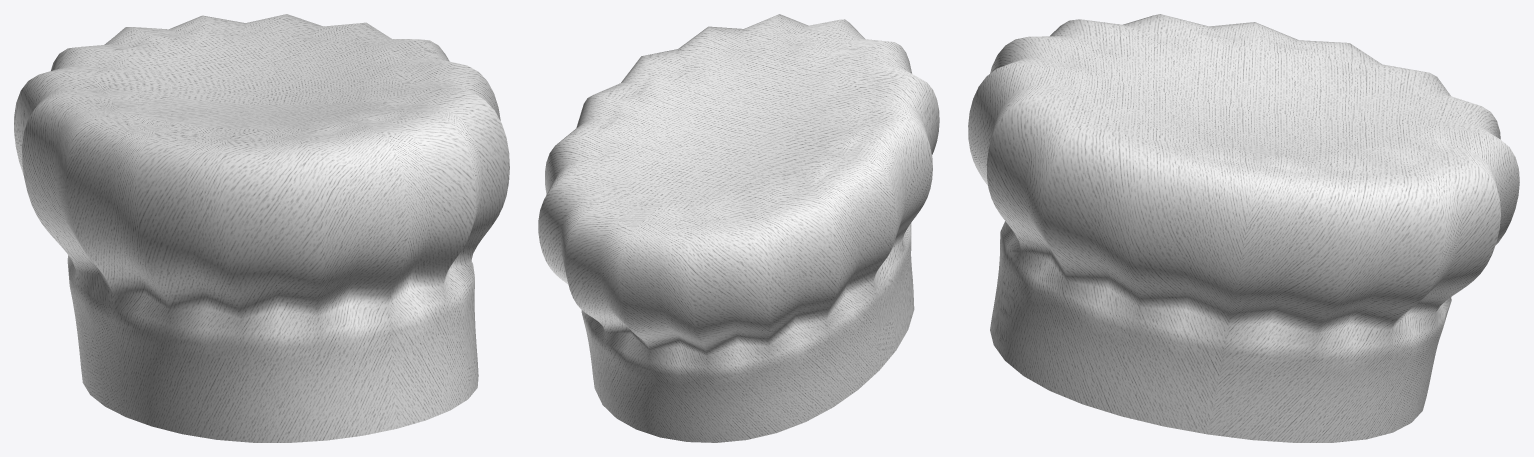
The model's file is chef hat.glb.
3 views of the same model, side by side, from view 1: azimuth 30°, elevation 25°; view 2: azimuth 150°, elevation 25°; view 3: azimuth 270°, elevation 25° (orthographic). The views are drawn at different scales.
Parts seen in each view (by area): view 1: chefhat_1; view 2: chefhat_1; view 3: chefhat_1.
Part boxes in pixels (x1,y1,x2,y2): chefhat_1: (14,14,509,442); chefhat_1: (538,14,939,442); chefhat_1: (968,14,1519,442).
Bounding box in the file's own units: 0.2186 × 0.1901 × 0.2852.
1 material, 1 textured.
